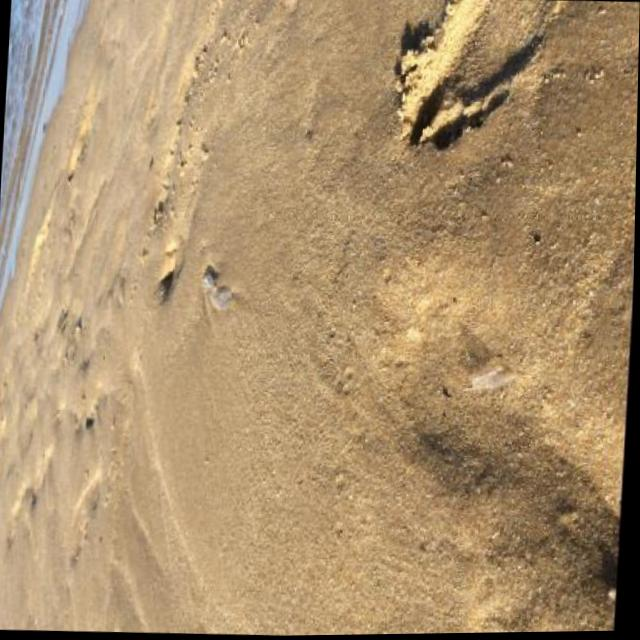plastic: (462, 367, 518, 394), (201, 272, 234, 309)
